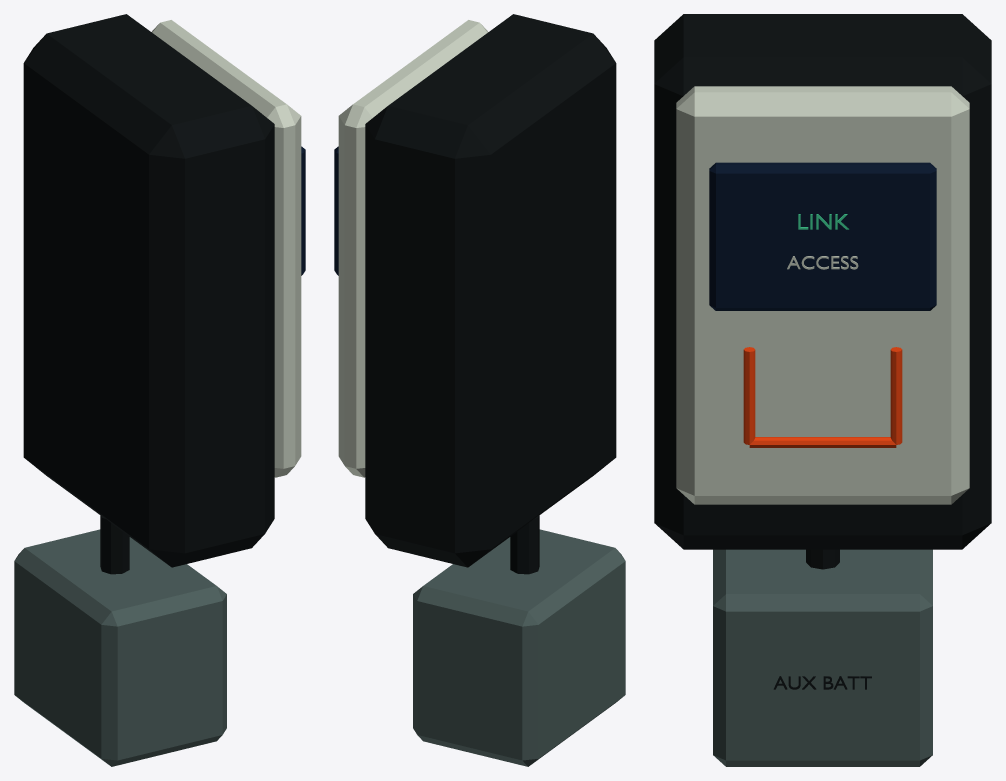
File: SM_MP_Flow_GateReader.fbx
3 views of the same model, side by side, from view 1: azimuth 30°, elevation 25°; view 2: azimuth 150°, elevation 25°; view 3: azimuth 270°, elevation 25° (orthographic). The views are drawn at different scales.
Visible parts, largest first — view 1: SM_MP_Flow_GateReader; view 2: SM_MP_Flow_GateReader; view 3: SM_MP_Flow_GateReader.
Part boxes in pixels (x1=…): SM_MP_Flow_GateReader: x1=14, y1=14, x2=305, y2=766; SM_MP_Flow_GateReader: x1=334, y1=14, x2=625, y2=766; SM_MP_Flow_GateReader: x1=654, y1=14, x2=991, y2=766.
Bounding box in the file's own units: 36.5 × 46 × 108.
Materials: 1 (1 with a texture image).
